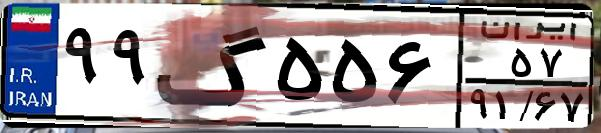1: (495, 70, 520, 125)
5: (270, 28, 330, 110), (330, 28, 385, 110), (508, 27, 537, 80)
6: (385, 28, 445, 110), (535, 70, 560, 125)
7: (560, 70, 590, 125), (537, 27, 568, 80)
9: (57, 26, 110, 100), (110, 28, 156, 98), (470, 70, 495, 125)
گ: (156, 12, 270, 120)
